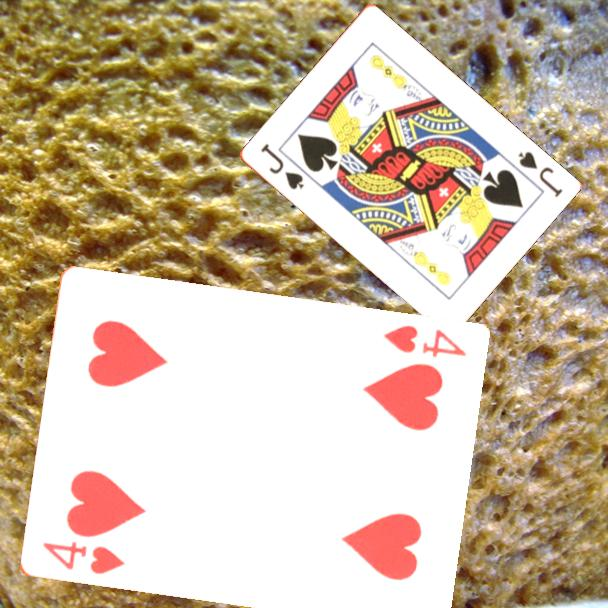h04: (39, 538, 127, 578), (379, 322, 469, 360)
s11: (514, 148, 565, 200), (256, 140, 306, 193)
